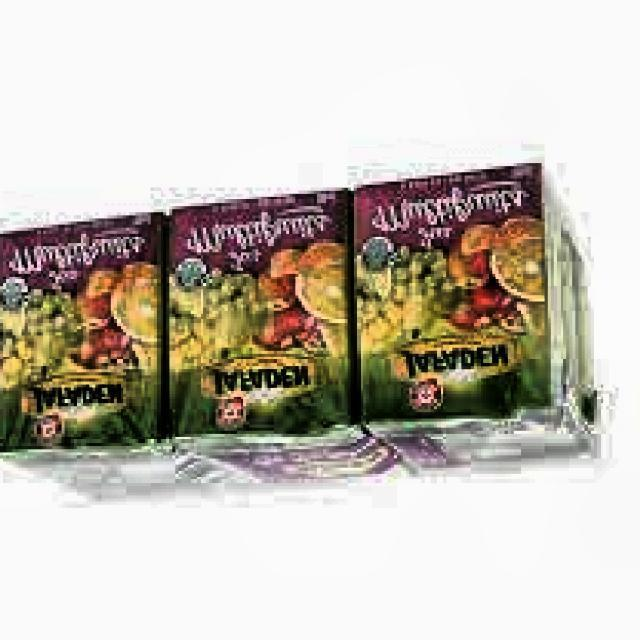cardboard: (351, 163, 597, 477)
